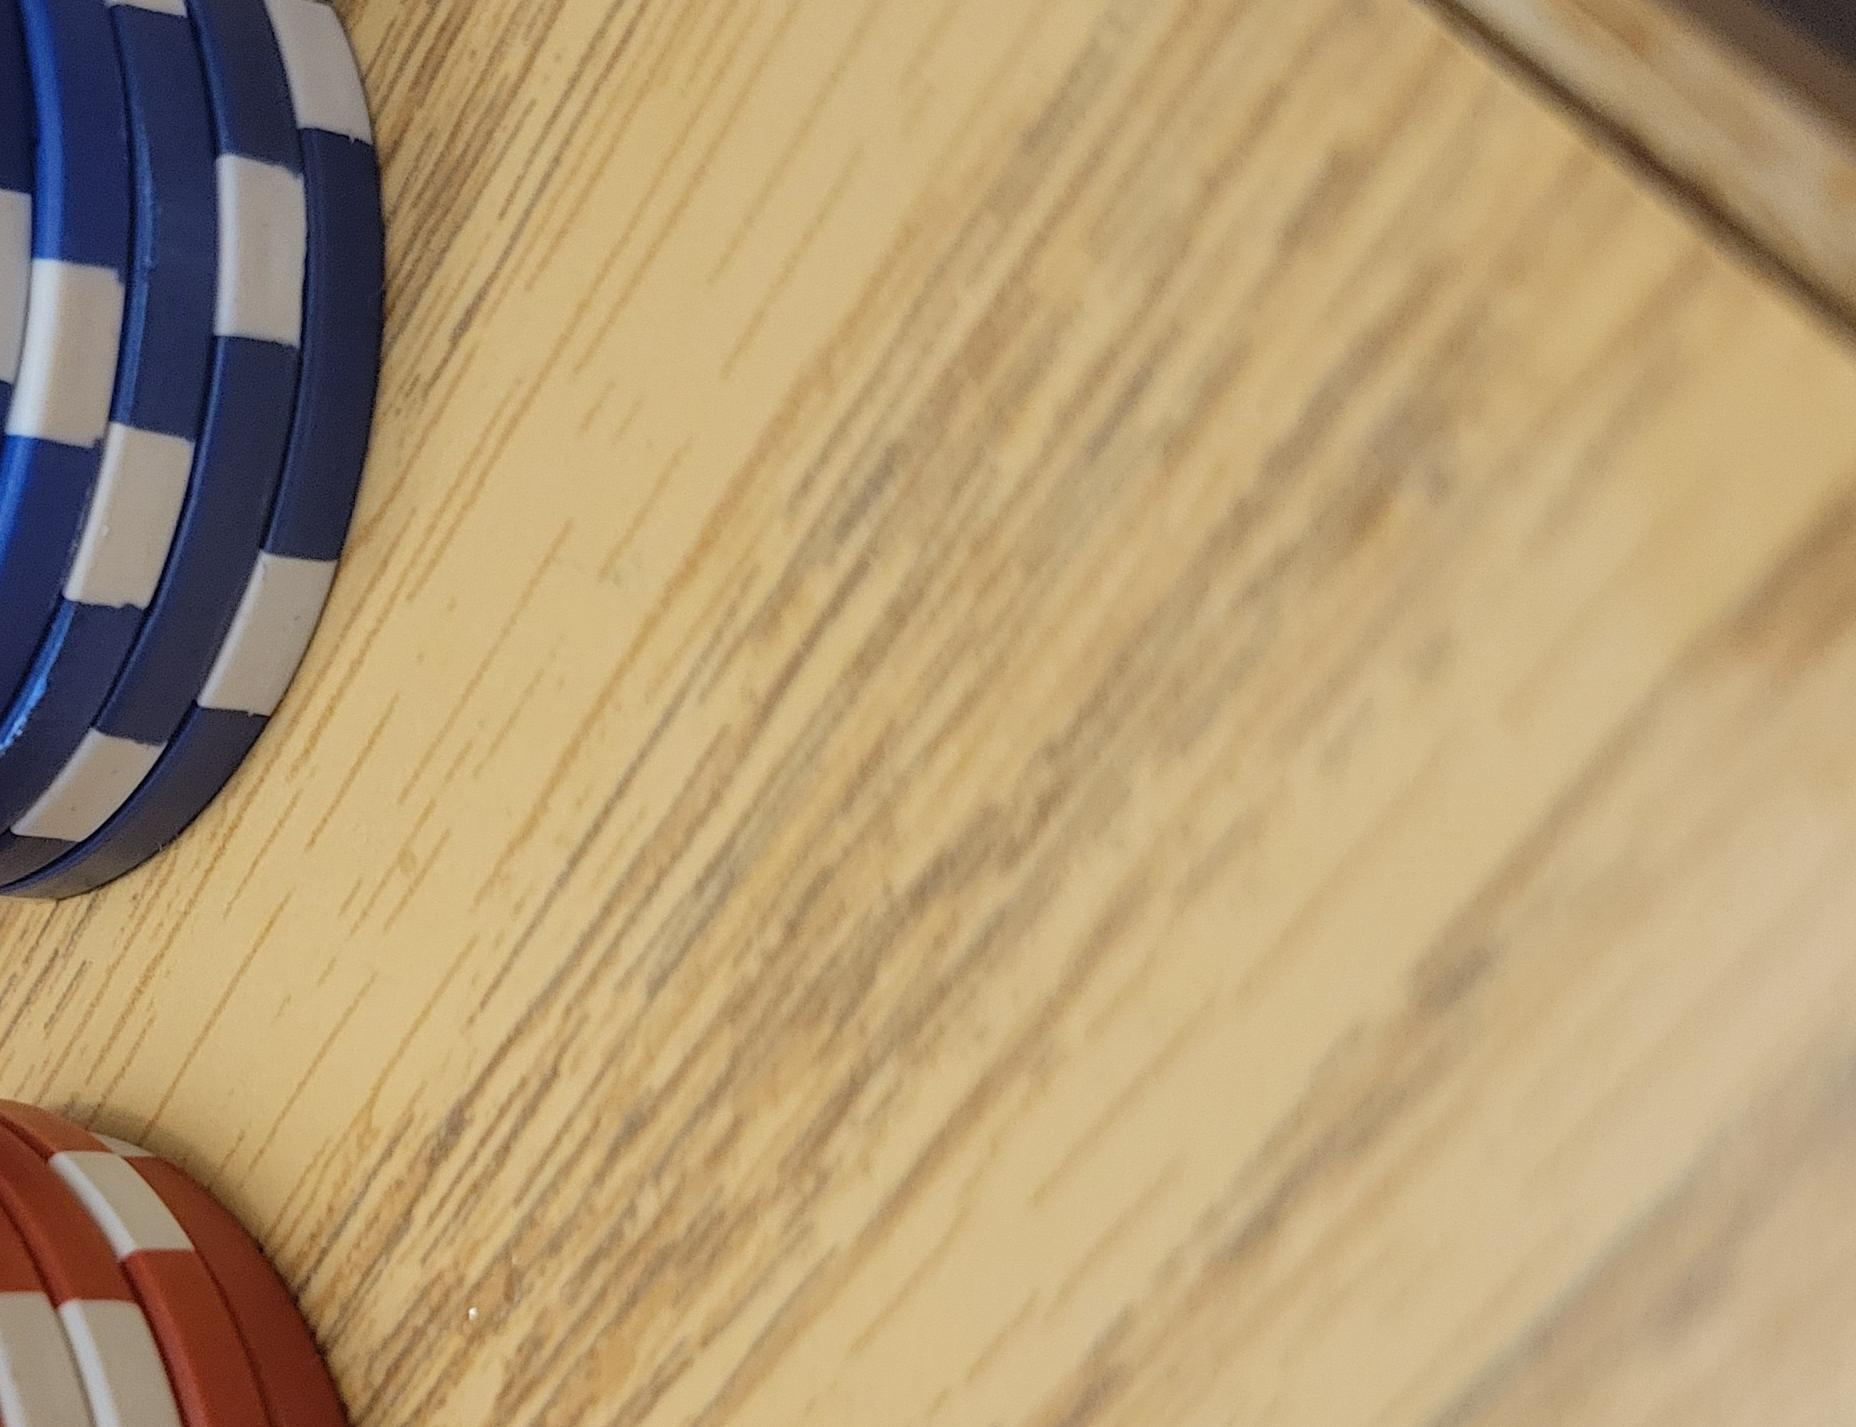Chip: (1, 166, 861, 1427)
